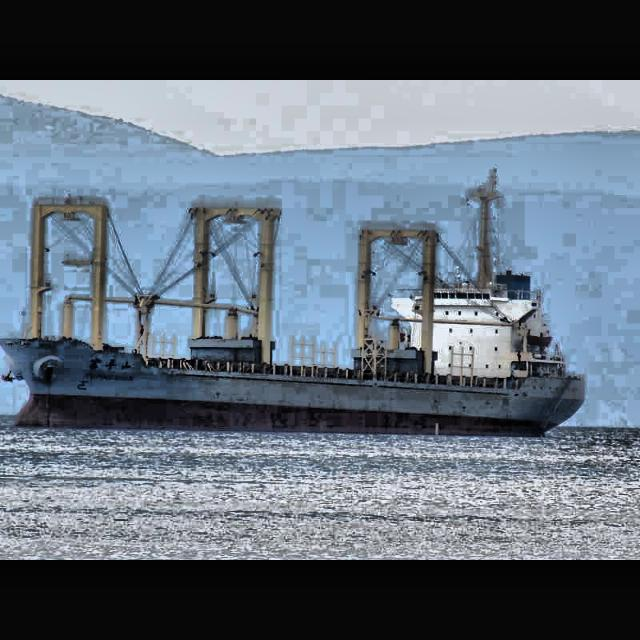bulk_carrier: (1, 194, 586, 438)
